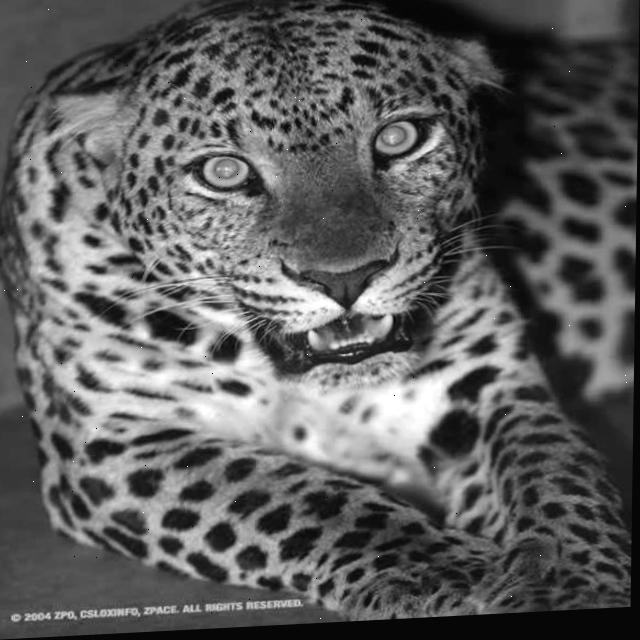Leopard: (0, 0, 638, 638)
